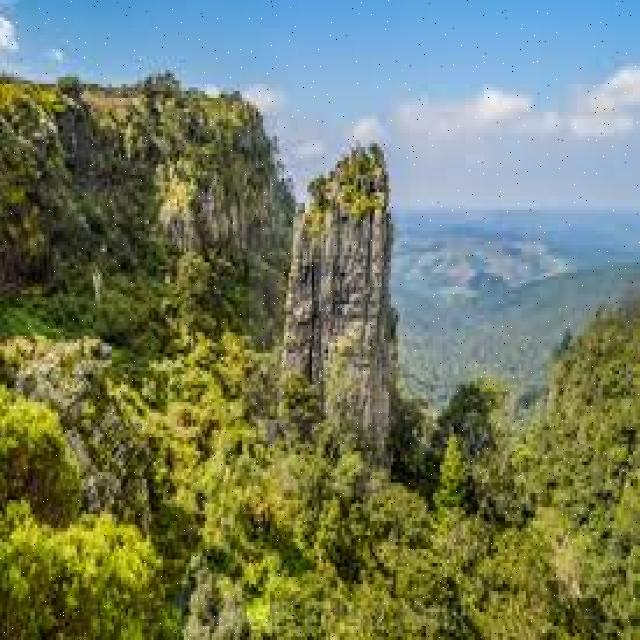Metamorphic: (282, 147, 393, 472)
